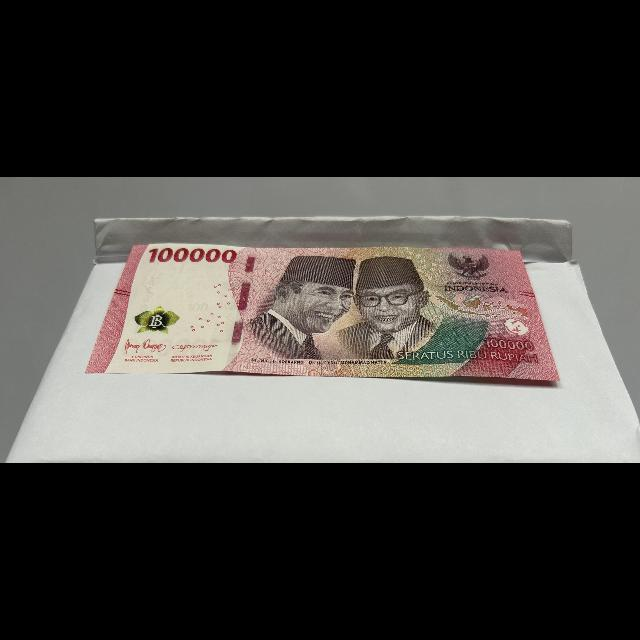Asli-100k: (81, 240, 566, 386)
Tinta-Asli-100k: (132, 305, 186, 336)
